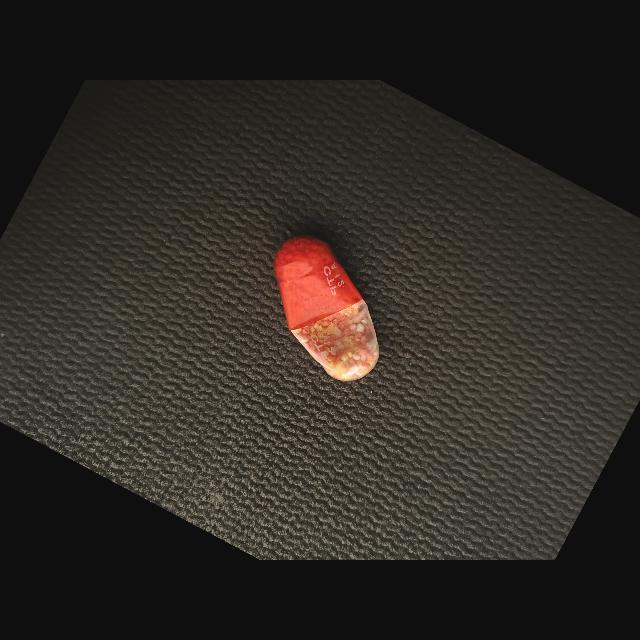Defective Capsule: (273, 235, 379, 381)
